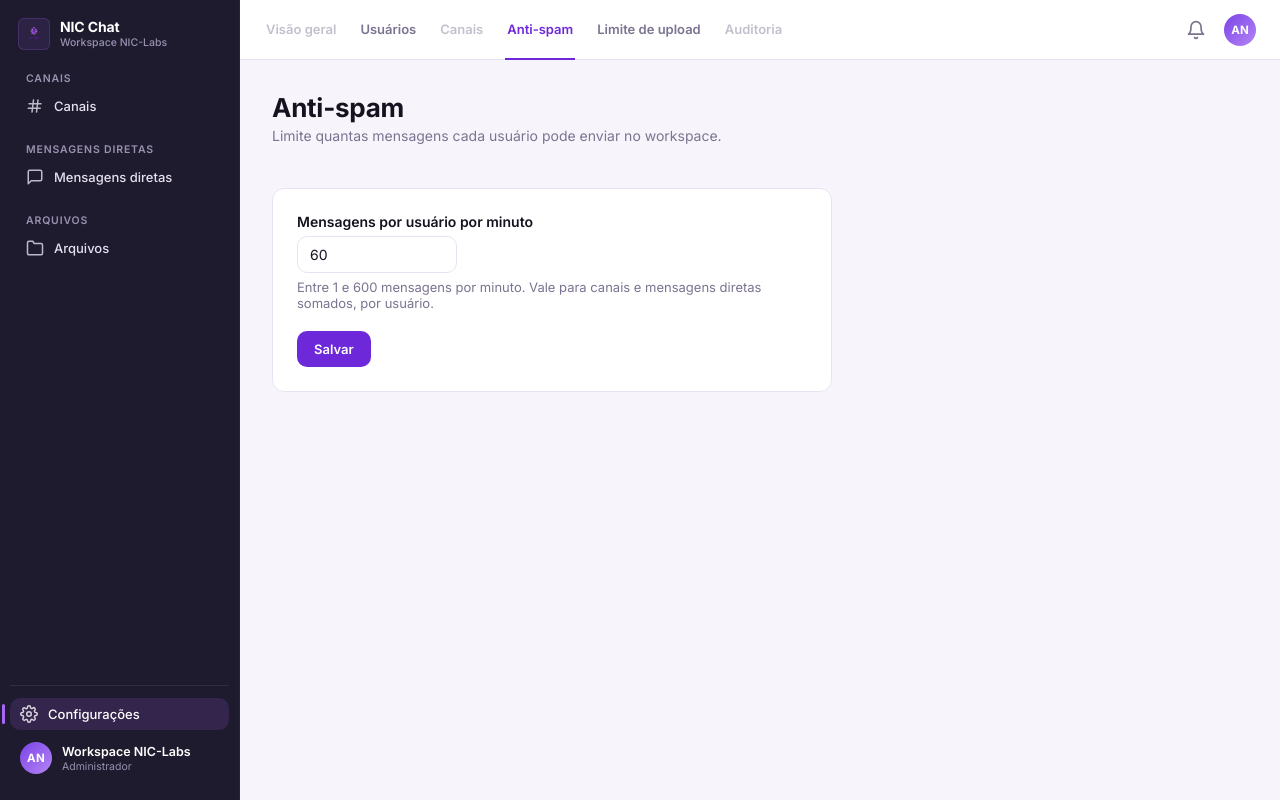
Test case: AdminAntiSpamPage › rejects a value above the maximum
Replace the text in the number field labelled "Mensagens por usuário por minuto" with "601". click: coordinates (377, 254)
box: [297,236,457,273]
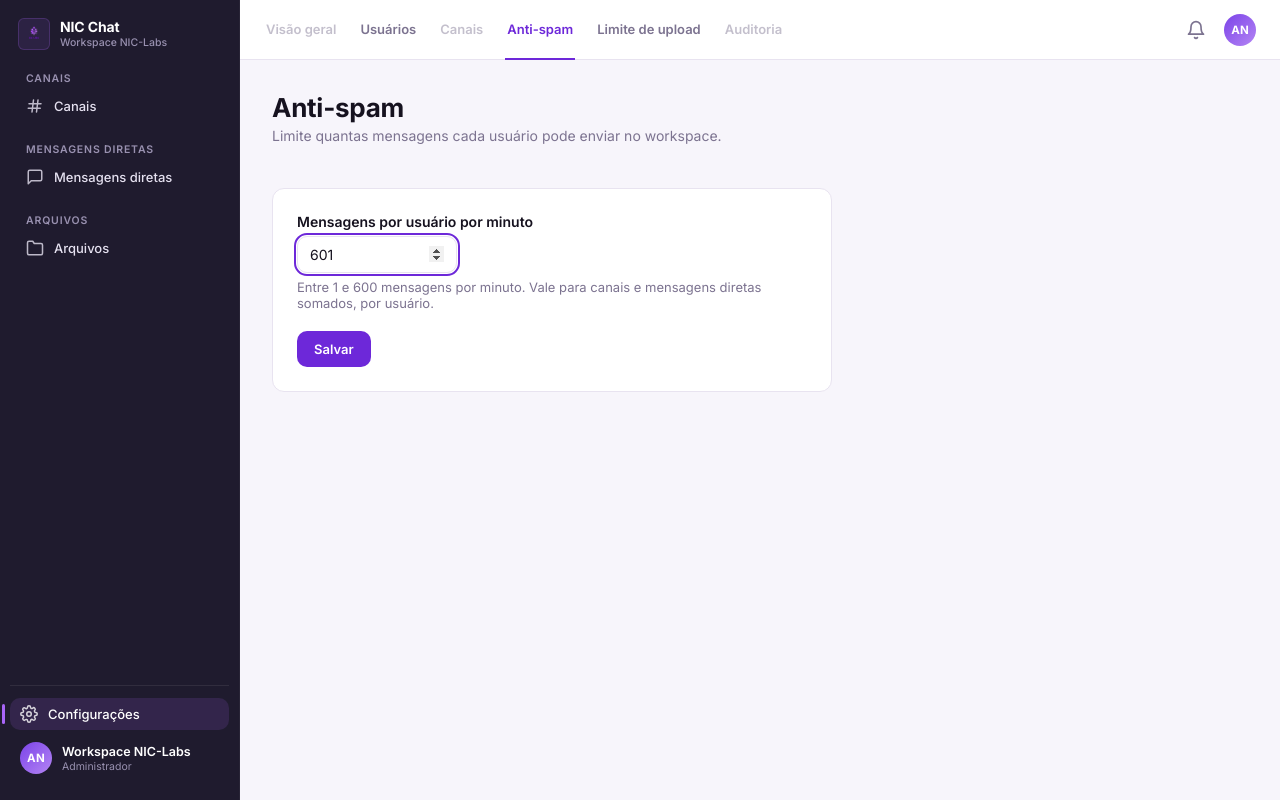
Click the button "Salvar". click: coordinates (334, 349)
box: [297,331,371,367]
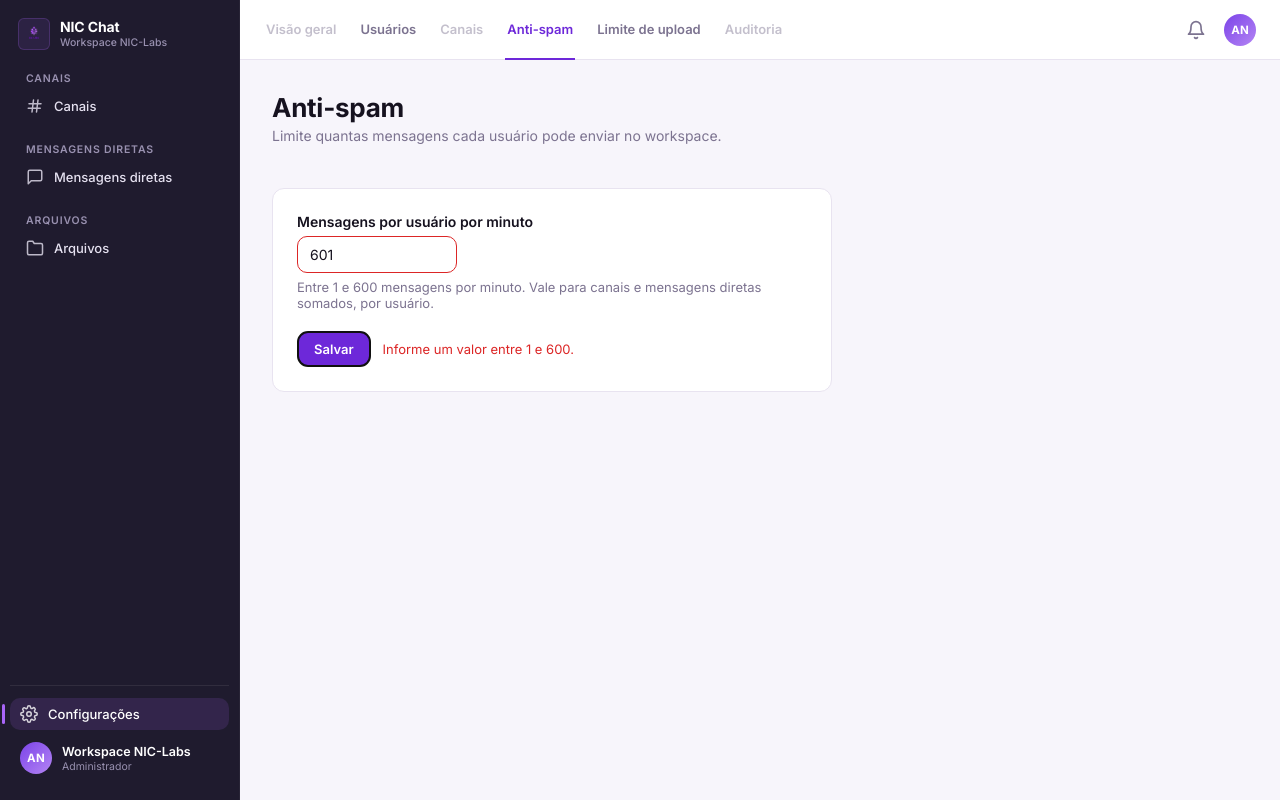
Expected: the message shows "entre 1 e 600", [383,341,574,357]
